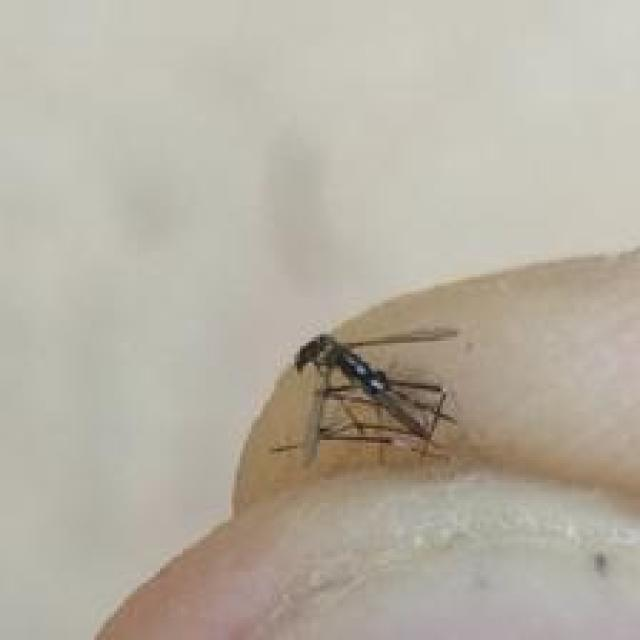Aedes albopictus: (270, 326, 461, 468)
